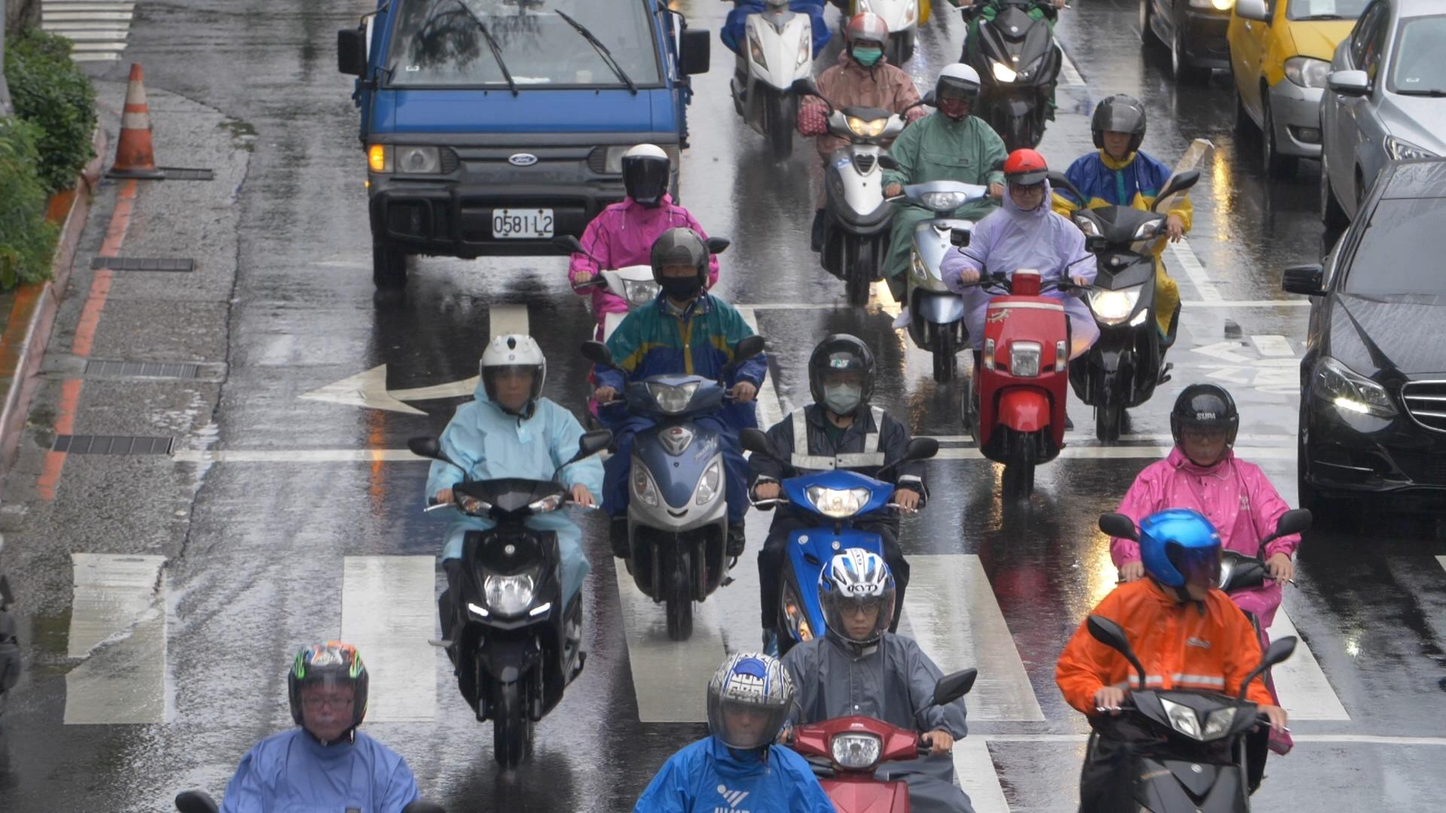driver: (411, 331, 614, 770), (583, 225, 770, 640), (1057, 507, 1295, 813), (735, 329, 941, 659), (940, 149, 1107, 499), (1045, 90, 1200, 443), (776, 545, 980, 813), (552, 142, 729, 431), (791, 9, 938, 311), (877, 59, 1012, 385), (629, 648, 837, 813)
helmet: (705, 649, 795, 769), (1138, 509, 1223, 620), (287, 638, 370, 748), (817, 548, 898, 659), (478, 333, 549, 429), (807, 332, 878, 426), (1169, 380, 1241, 471), (652, 227, 711, 303), (1090, 93, 1147, 165), (844, 10, 889, 84), (622, 144, 671, 211), (933, 62, 983, 124)
